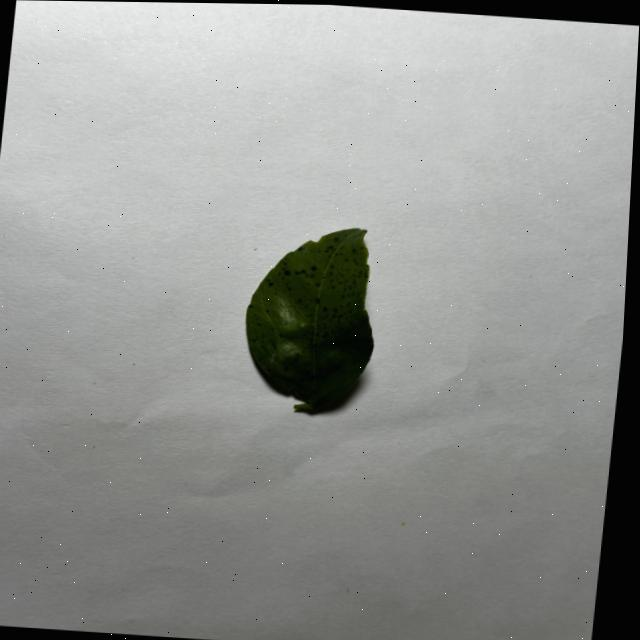sooty_mold: (246, 229, 373, 411)
